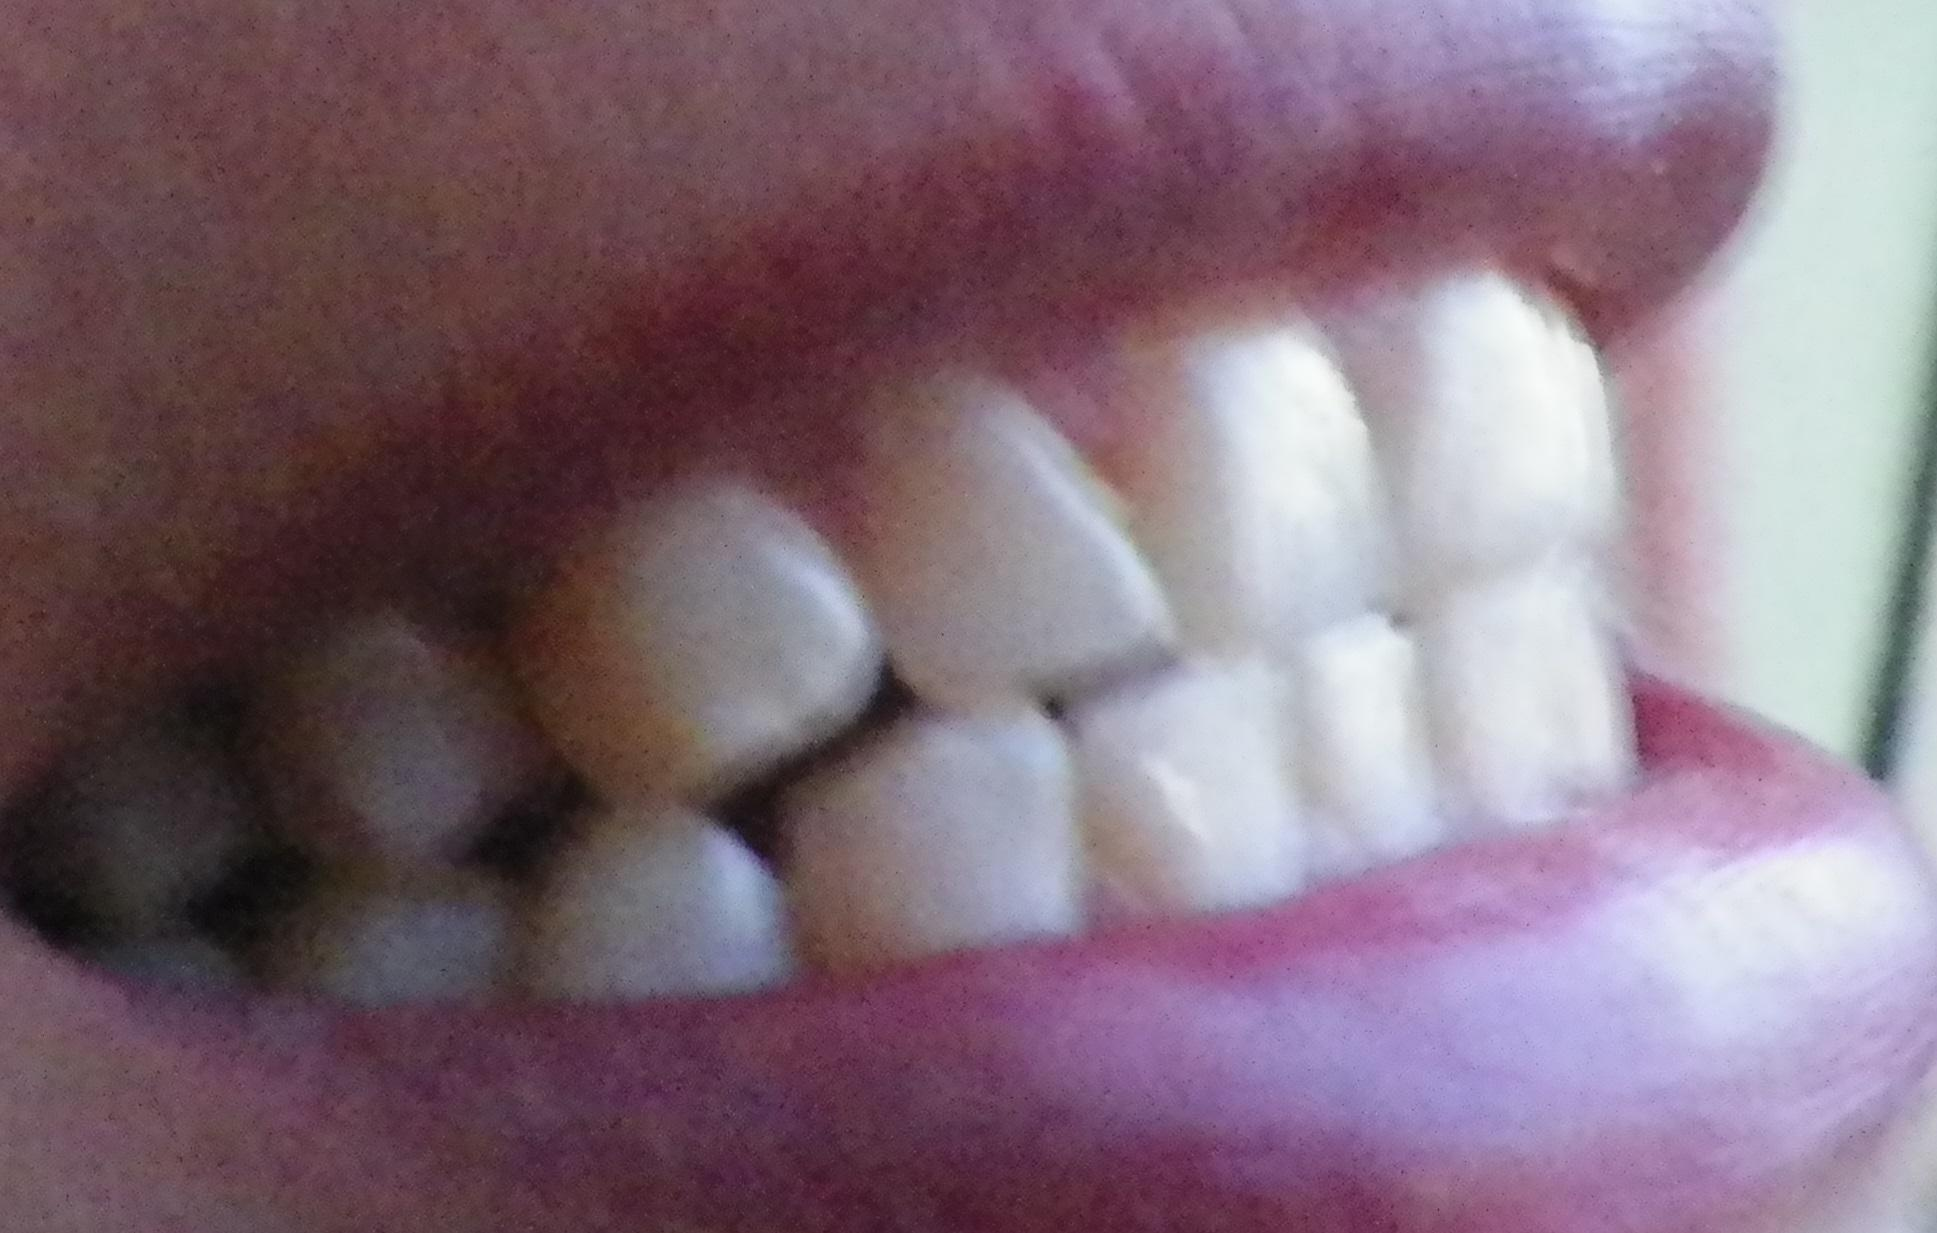cavity: (453, 449, 887, 811), (223, 523, 525, 877), (481, 782, 808, 1011), (0, 693, 263, 927), (224, 835, 515, 1023)
normal: (826, 357, 1199, 717), (1324, 240, 1650, 629), (1079, 295, 1395, 660), (774, 679, 1104, 970), (1398, 542, 1681, 852), (1072, 636, 1312, 953), (1288, 580, 1441, 922)
